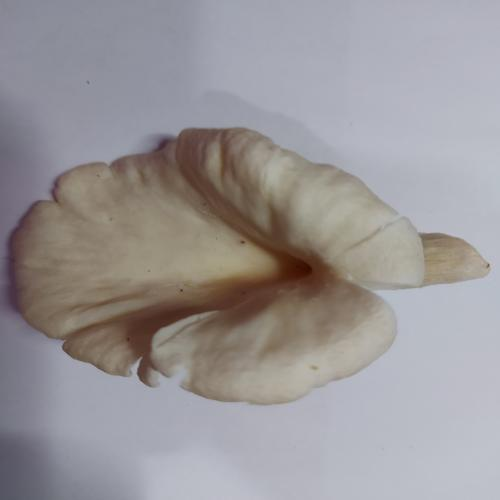Oyster Mushroom: (8, 126, 491, 406)
